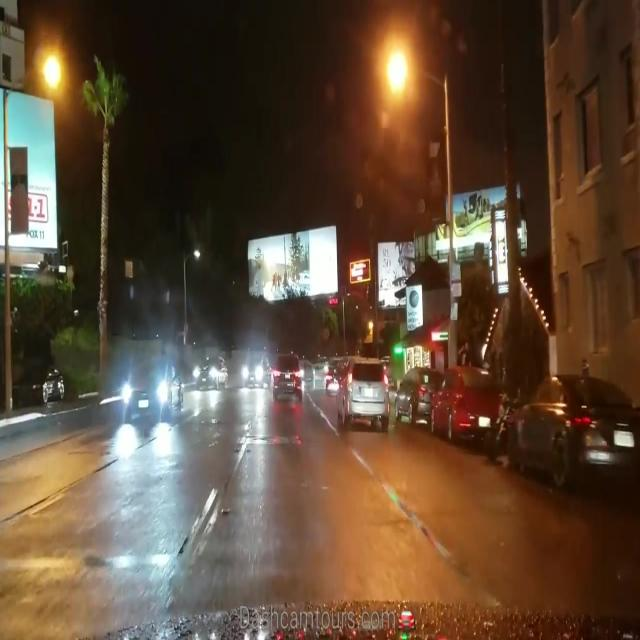Car: (508, 370, 635, 489), (430, 366, 497, 436), (333, 355, 390, 426), (121, 360, 180, 415), (271, 350, 302, 395)
